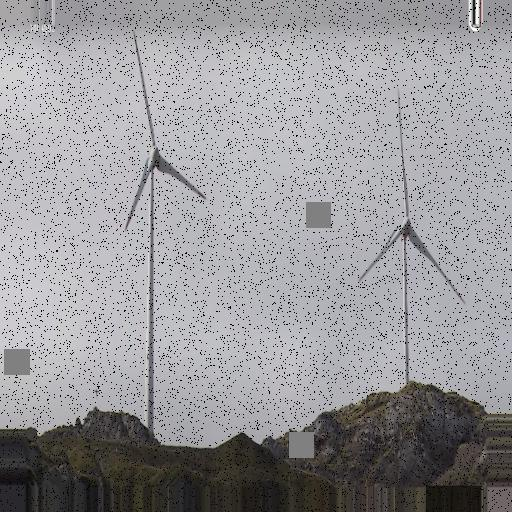wind turbine: (125, 34, 211, 446), (358, 89, 468, 391)
